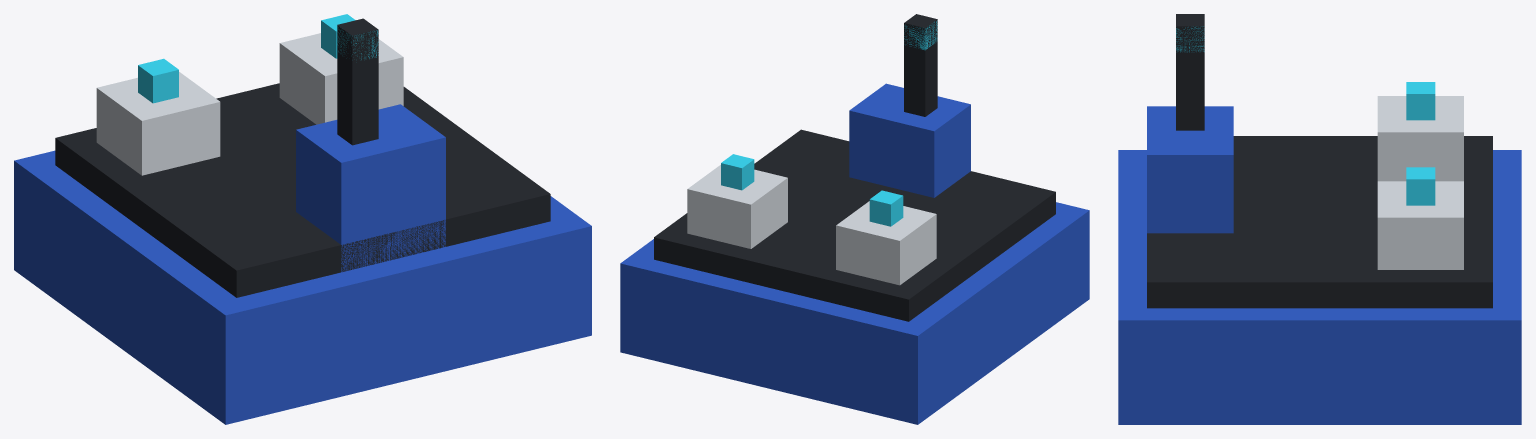
The model's file is veh_drone_carrier.glb.
3 renders of one model, left to right at view 1: azimuth 30°, elevation 25°; view 2: azimuth 150°, elevation 25°; view 3: azimuth 270°, elevation 25°, orthographic. The views are drawn at different scales.
Parts seen in each view (by area): view 1: Hull mesh, Deck mesh, Bridge mesh, Drone mesh, Antenna mesh, Eye mesh; view 2: Hull mesh, Deck mesh, Drone mesh, Bridge mesh, Antenna mesh, Eye mesh, Tip mesh; view 3: Hull mesh, Deck mesh, Drone mesh, Bridge mesh, Antenna mesh, Eye mesh.
Part boxes in pixels (x1,y1,x2,y2): Hull mesh: [14, 150, 591, 424]; Deck mesh: [55, 83, 550, 297]; Bridge mesh: [296, 104, 445, 272]; Drone mesh: [96, 33, 403, 175]; Antenna mesh: [337, 18, 378, 145]; Eye mesh: [138, 14, 355, 103]; Hull mesh: [620, 202, 1089, 424]; Deck mesh: [654, 129, 1055, 321]; Drone mesh: [687, 165, 936, 285]; Bridge mesh: [849, 83, 970, 197]; Antenna mesh: [904, 14, 937, 116]; Eye mesh: [721, 154, 903, 226]; Tip mesh: [904, 20, 937, 50]; Hull mesh: [1118, 150, 1521, 424]; Deck mesh: [1147, 136, 1492, 308]; Drone mesh: [1377, 96, 1463, 269]; Bridge mesh: [1147, 106, 1233, 233]; Antenna mesh: [1176, 14, 1204, 130]; Eye mesh: [1406, 82, 1435, 205].
Bounding box in the file's own units: 14 × 12 × 14.
Materials: 1 (1 with a texture image).
